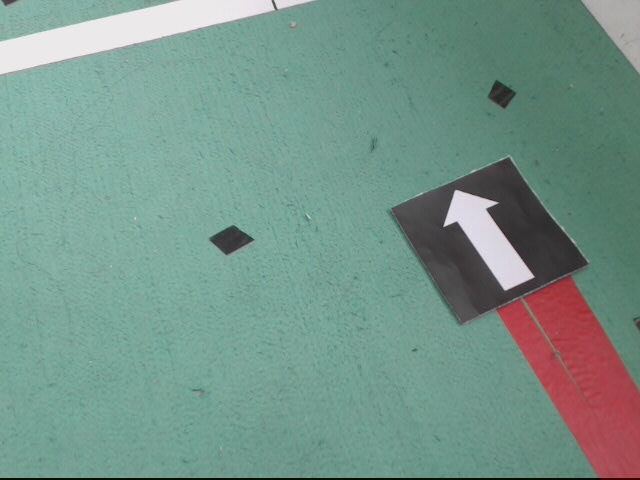straight: (393, 155, 586, 327)
